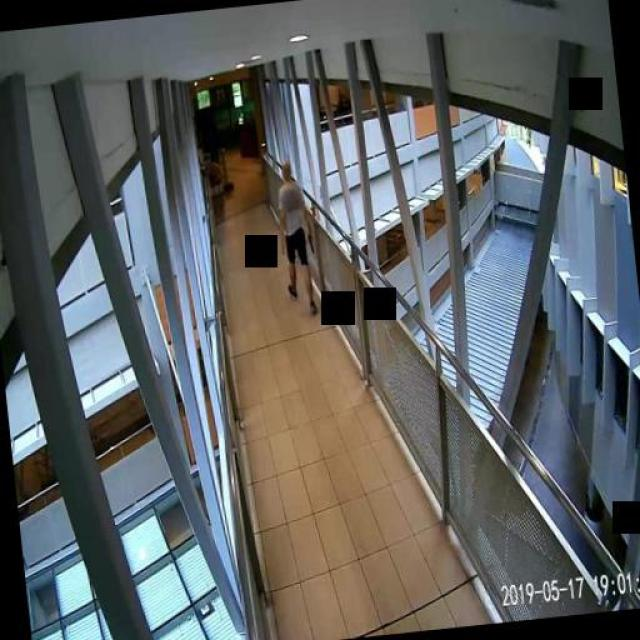gun: (306, 231, 314, 250)
